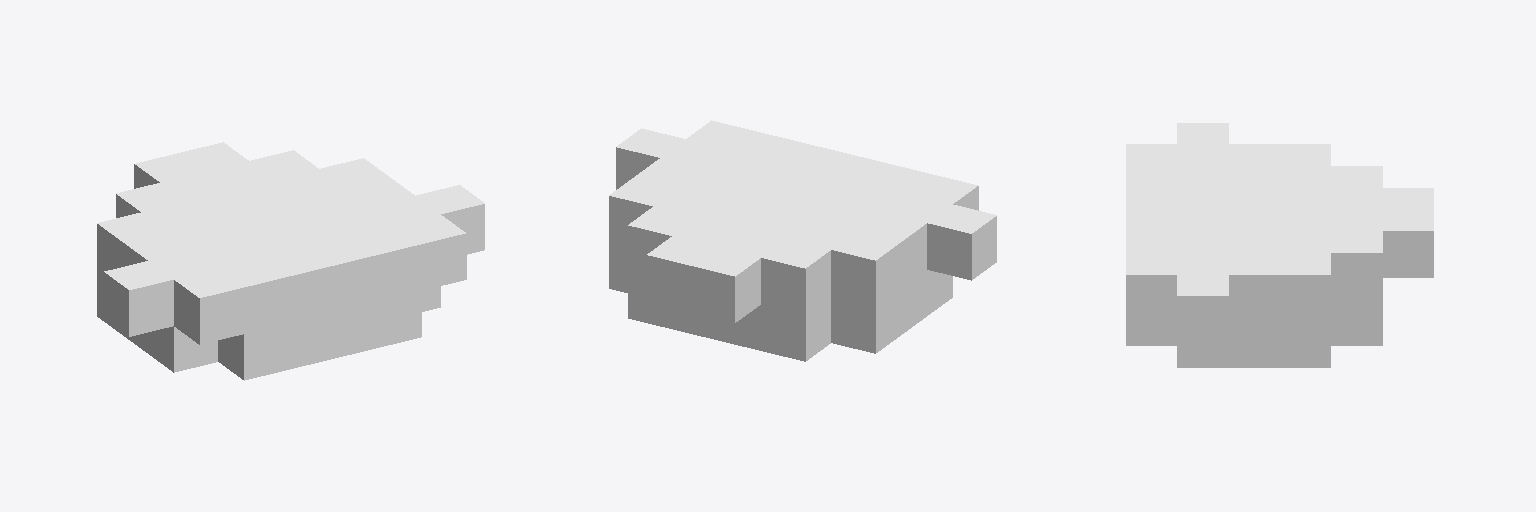
Rendered from Man_D.obj.
3 views of the same model, side by side, from view 1: azimuth 30°, elevation 25°; view 2: azimuth 150°, elevation 25°; view 3: azimuth 270°, elevation 25° (orthographic).
Parts seen in each view (by area): view 1: object 1; view 2: object 1; view 3: object 1.
Part boxes in pixels (left/top/right/bottom): object 1: left=97, top=142, right=484, bottom=380; object 1: left=609, top=120, right=996, bottom=361; object 1: left=1126, top=123, right=1433, bottom=367.
Size of the model in its own units: 0.8 by 0.2 by 0.6.